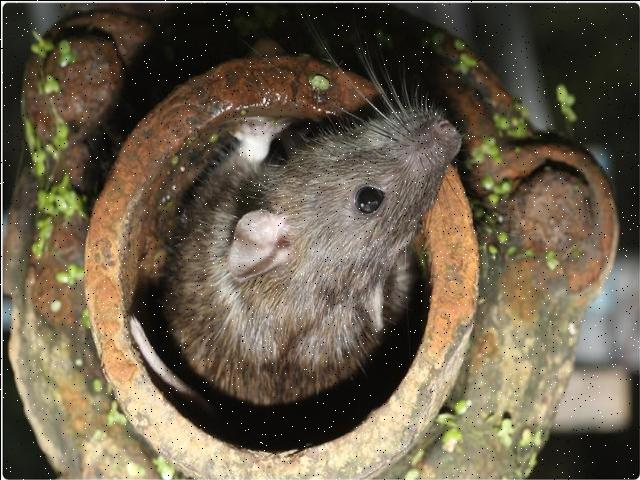Tikus: (172, 105, 462, 407)
